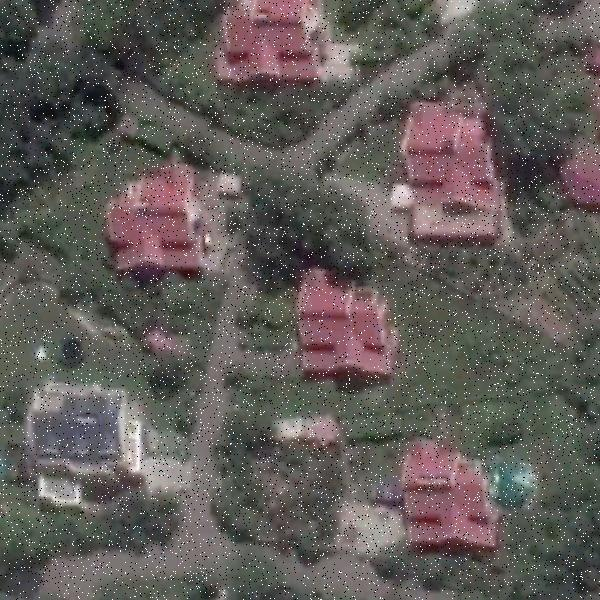Buildings: (20, 381, 140, 511), (106, 166, 220, 270), (412, 87, 485, 238), (396, 436, 496, 544), (302, 284, 389, 371), (222, 12, 320, 87)
